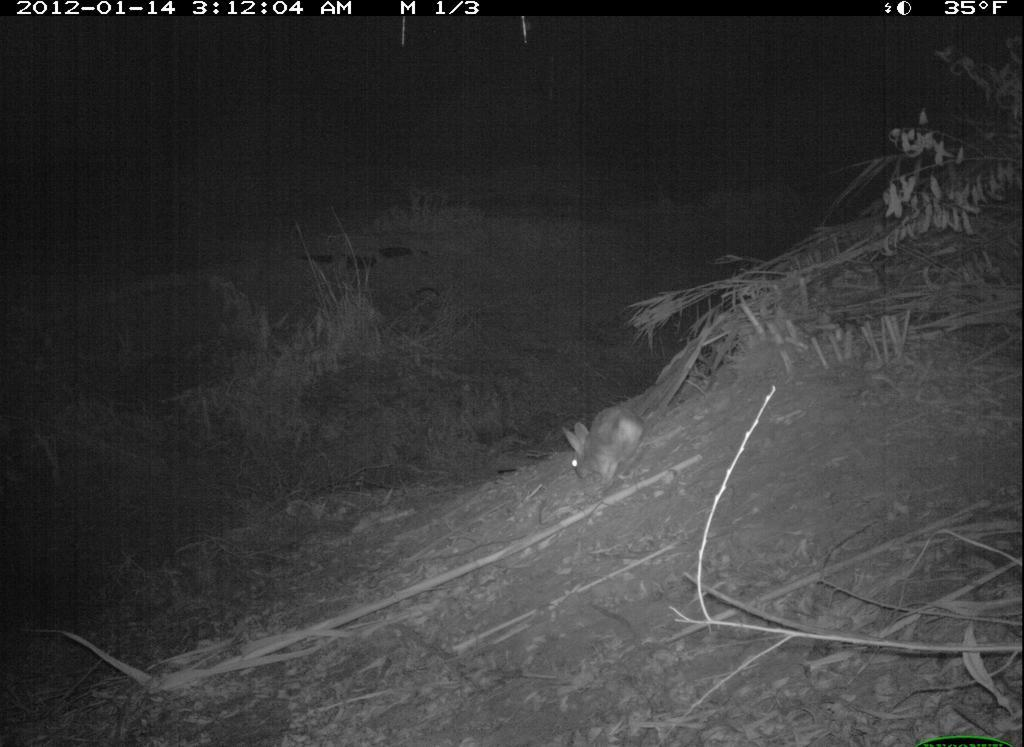rabbit: (548, 397, 660, 501)
